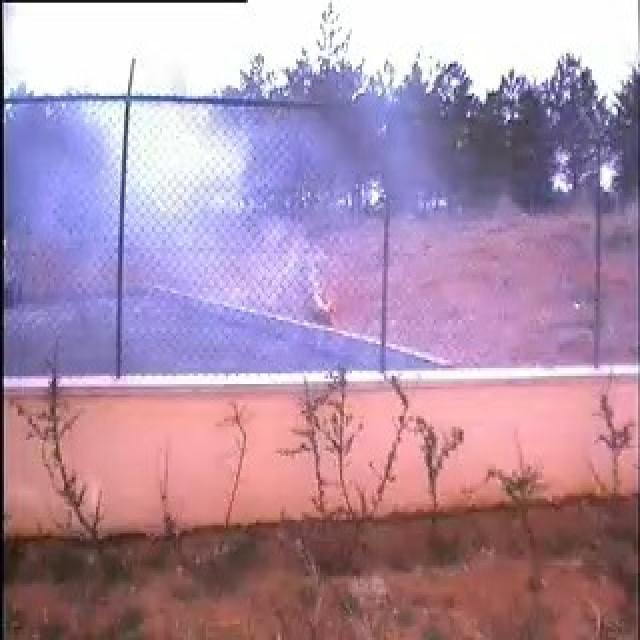Smoke: (60, 98, 362, 366)
